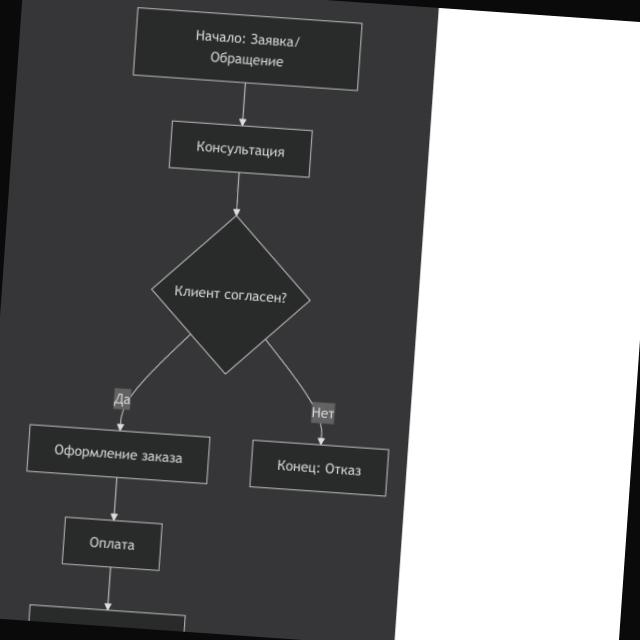arrow: (114, 328, 190, 434), (258, 340, 332, 444), (230, 173, 245, 216), (108, 478, 122, 520), (102, 568, 116, 610), (237, 83, 250, 125)
diamond: (152, 217, 309, 373)
rectangle: (133, 8, 362, 90), (27, 425, 210, 484), (169, 121, 312, 177), (250, 440, 389, 496), (62, 517, 162, 571)
text_region: (310, 401, 336, 423), (111, 386, 132, 411)
